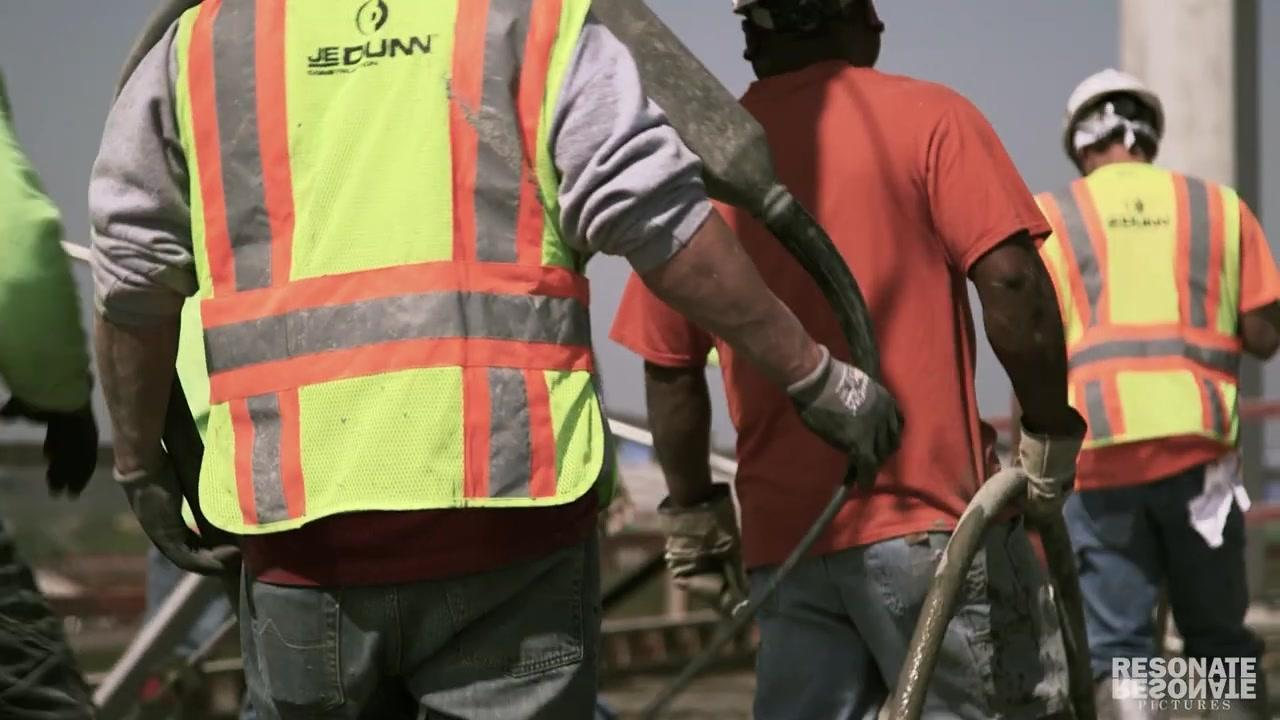vest: (160, 0, 613, 532), (1030, 164, 1244, 447)
